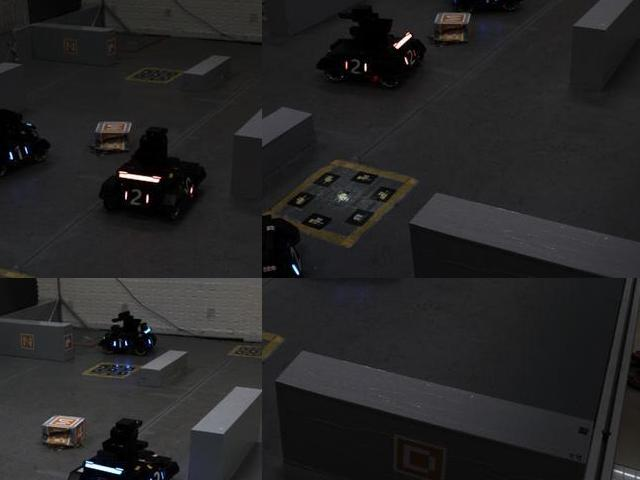armor: (120, 186, 152, 213), (3, 139, 32, 167), (339, 54, 371, 79), (180, 173, 199, 199), (398, 46, 420, 68), (111, 334, 133, 352), (142, 466, 168, 479), (81, 473, 116, 479), (477, 0, 502, 8)
